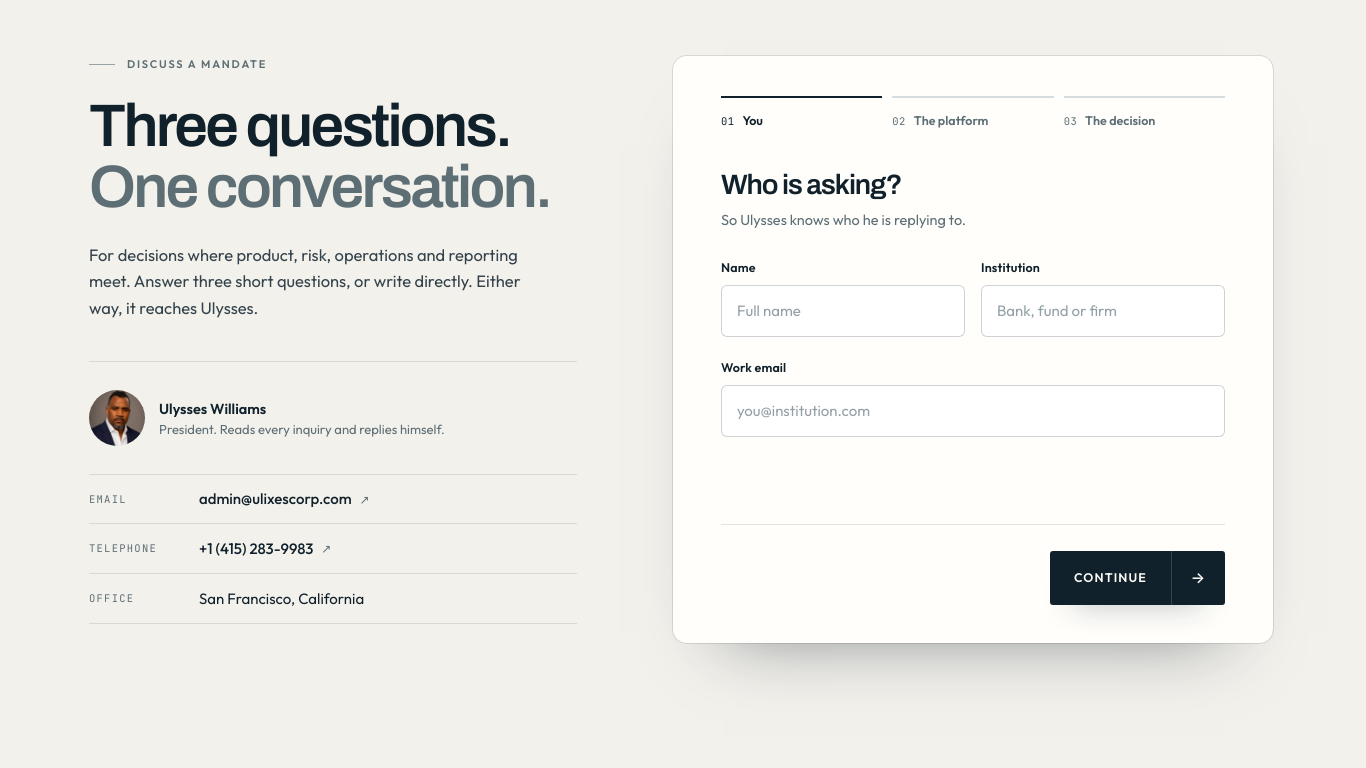
Test case: ContactPage › will not leave step one until name, institution and a valid email are given
Click the button "Continue →" at point(1138, 578), box [1050,550,1225,604]
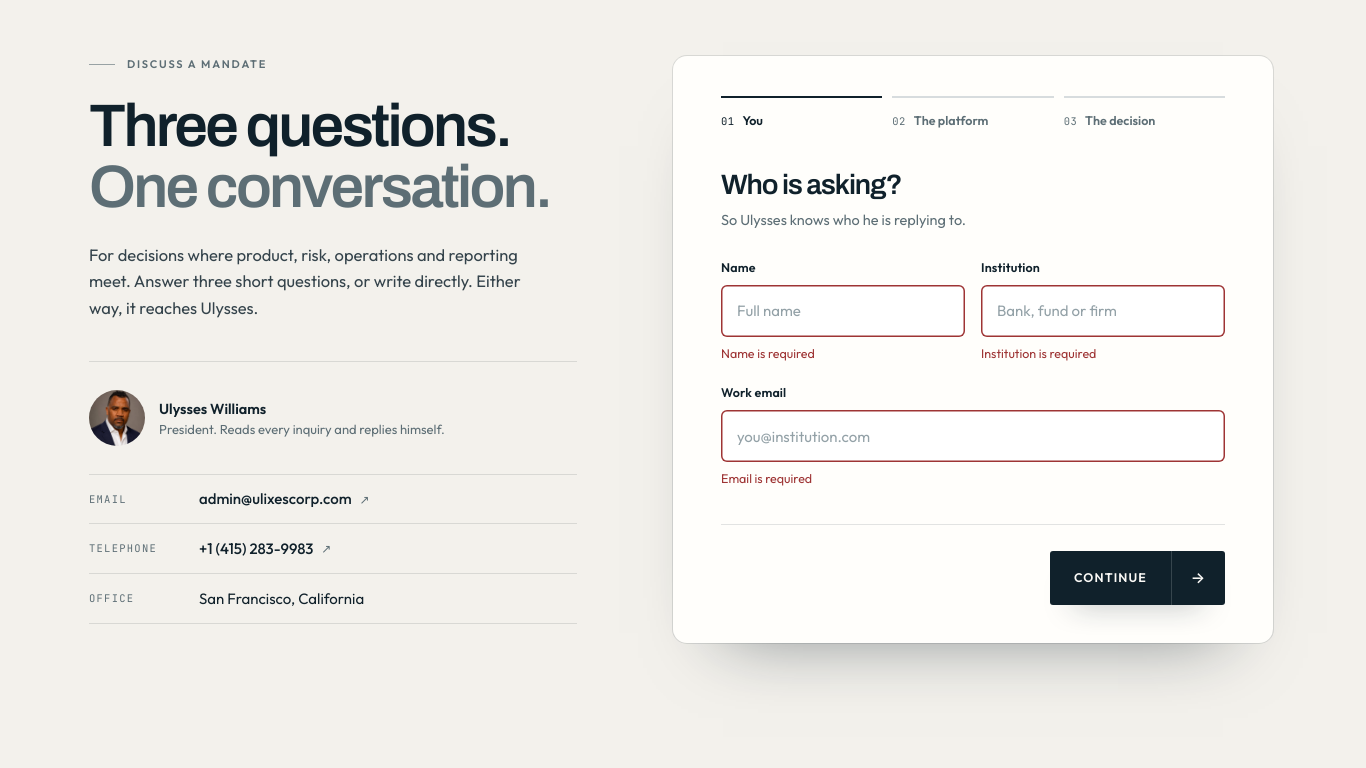
Expected: the text "Name is required" is shown, [721,344,815,360]
Expected: the text "Institution is required" is shown, [981,344,1096,360]
Expected: the text "Email is required" is shown, [721,470,812,486]
Type "Ada" into the field labelled "Name" at point(843, 310), box [721,284,965,336]
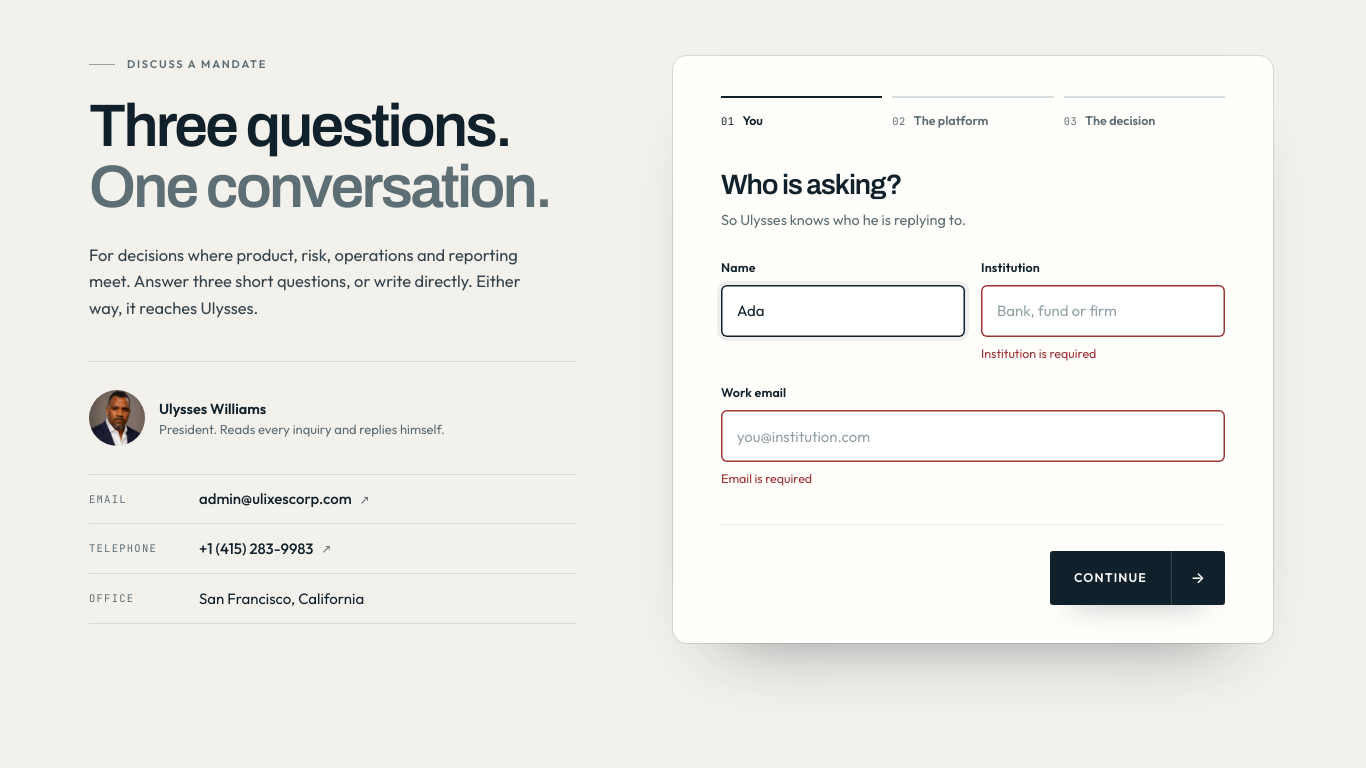
Type "Bank" into the field labelled "Institution" at point(1103, 310), box [981,284,1225,336]
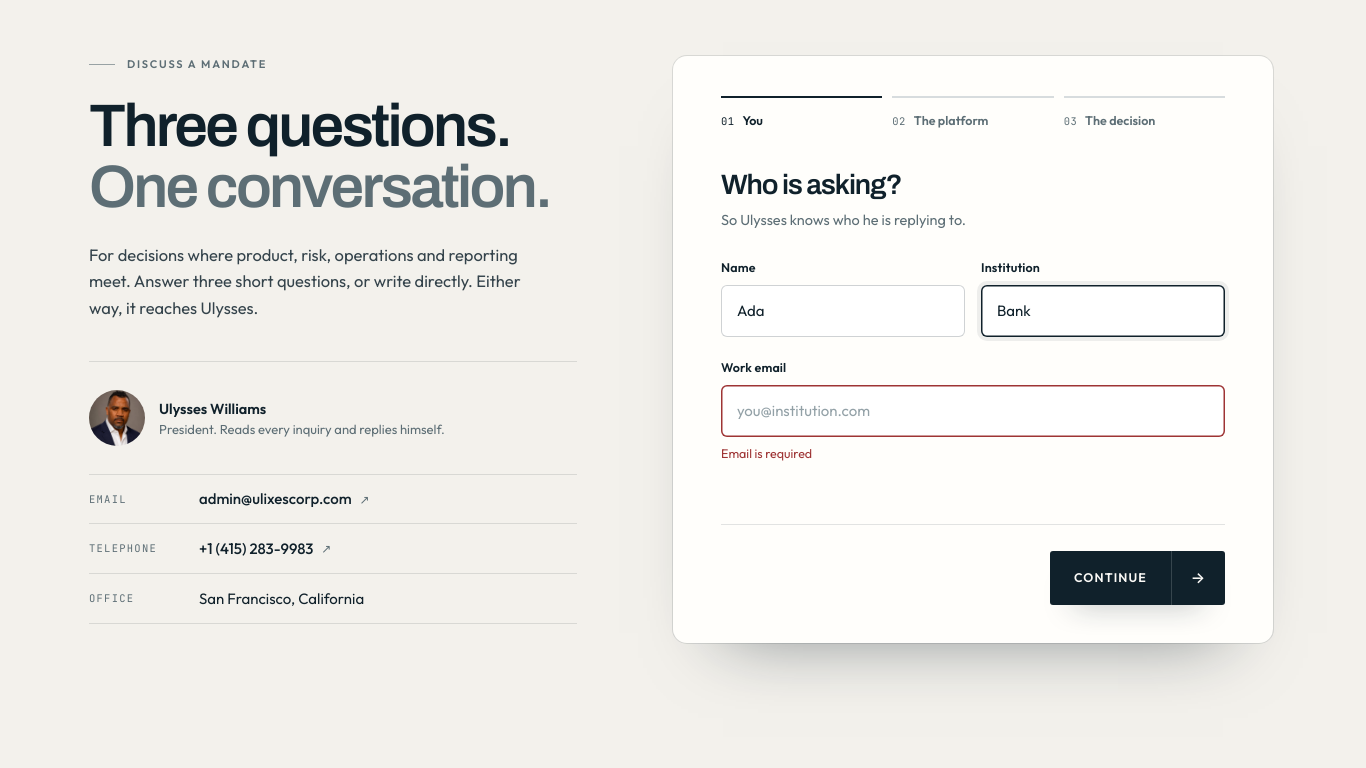
Type "not-an-email" into the field labelled "Work email" at point(973, 410), box [721,384,1225,436]
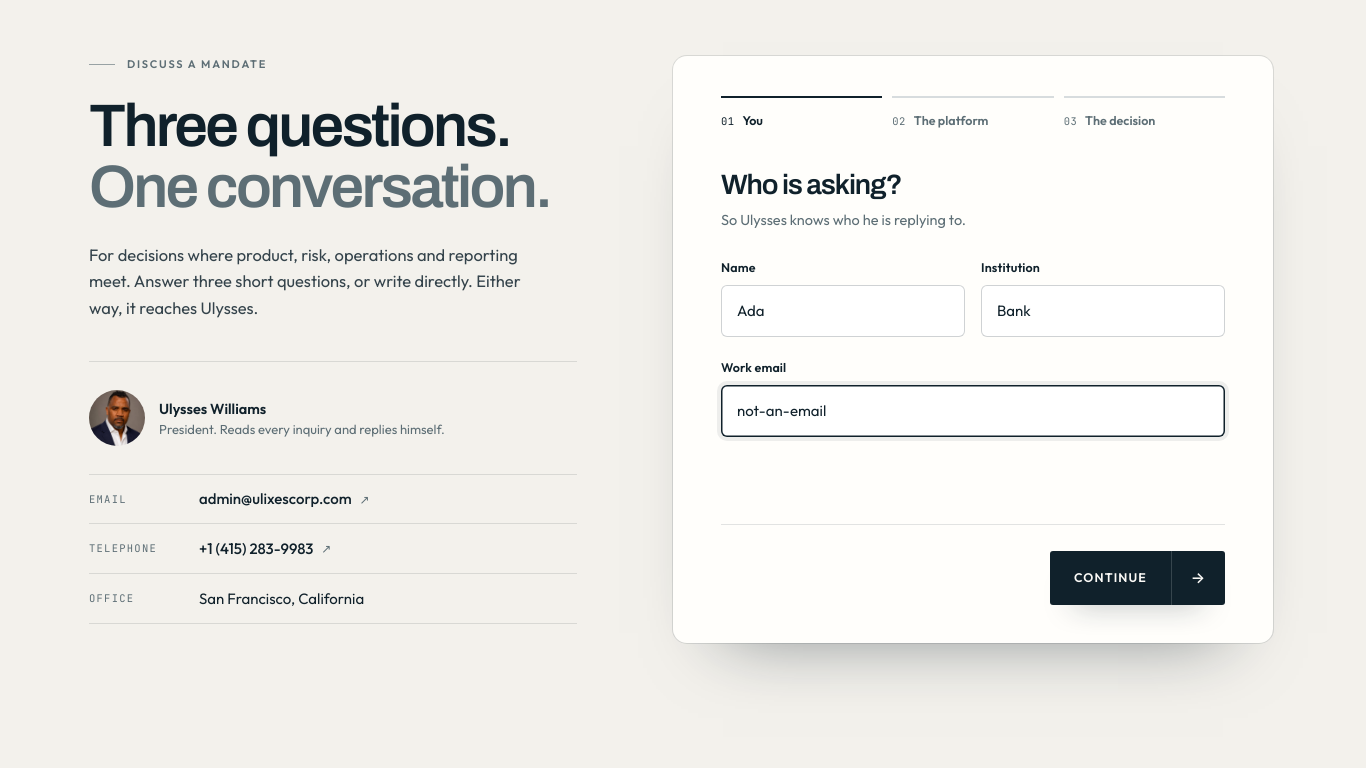
Click the button "Continue →" at point(1138, 578), box [1050,550,1225,604]
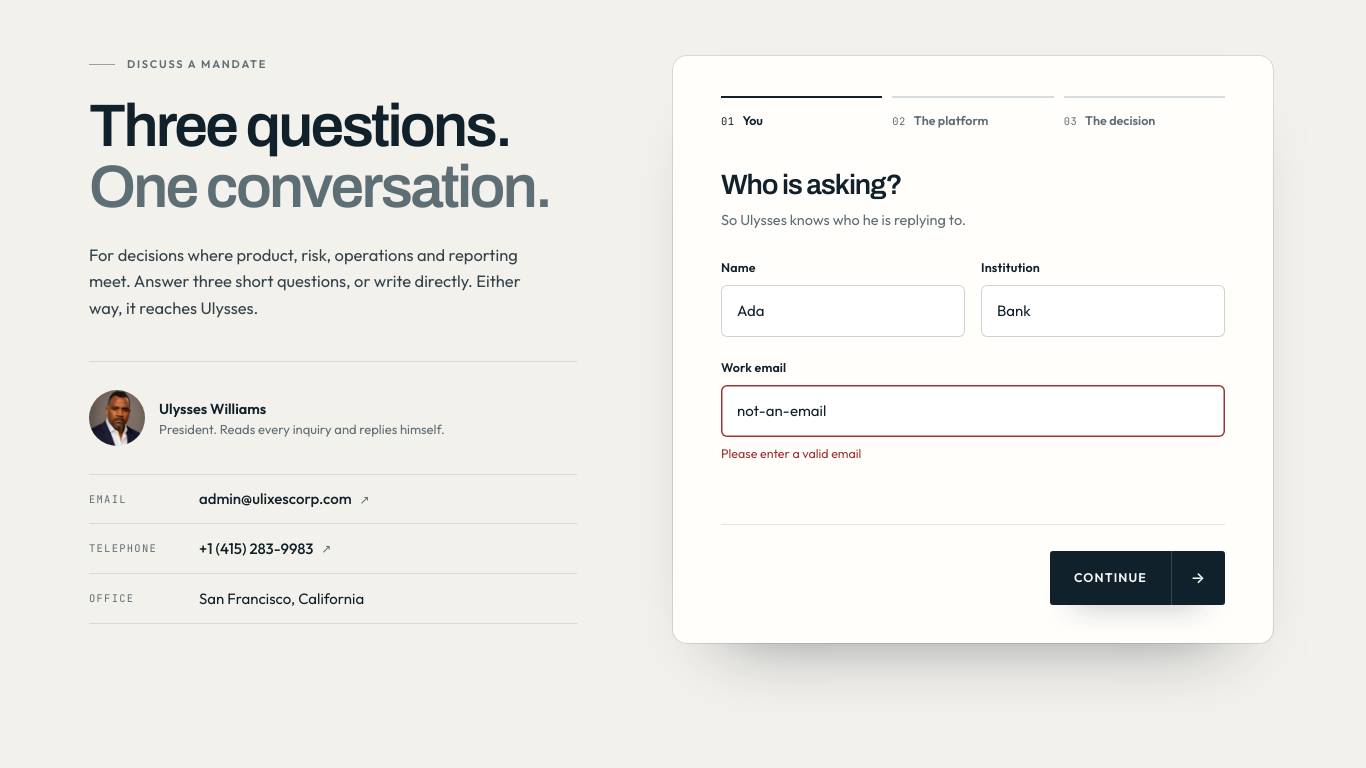
Expected: the text "Please enter a valid email" is shown, [721,444,861,460]
